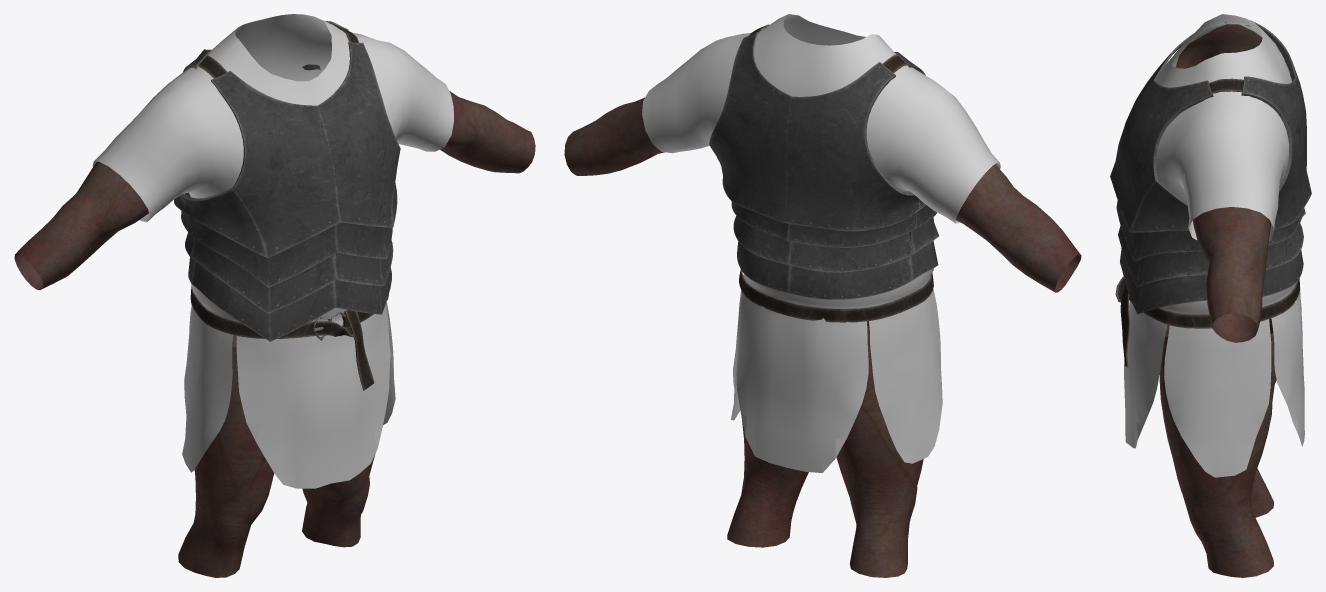
The model's file is sk_uruk_hai_plate_heavy_b2.fbx.
The picture shows the model from 3 angles, left to right: view 1: azimuth 30°, elevation 25°; view 2: azimuth 150°, elevation 25°; view 3: azimuth 270°, elevation 25°; orthographic projection. The views are drawn at different scales.
Visible parts, largest first — view 1: sk_uruk_hai_plate_heavy_b2.2, sk_uruk_hai_plate_heavy_b2.1, sk_uruk_hai_plate_heavy_b2.body.0, sk_uruk_hai_plate_heavy_b2.body.1, sk_uruk_hai_plate_heavy_b2.0; view 2: sk_uruk_hai_plate_heavy_b2.2, sk_uruk_hai_plate_heavy_b2.1, sk_uruk_hai_plate_heavy_b2.body.0, sk_uruk_hai_plate_heavy_b2.body.1, sk_uruk_hai_plate_heavy_b2.0; view 3: sk_uruk_hai_plate_heavy_b2.2, sk_uruk_hai_plate_heavy_b2.1, sk_uruk_hai_plate_heavy_b2.body.0, sk_uruk_hai_plate_heavy_b2.body.1, sk_uruk_hai_plate_heavy_b2.0.
Boxes of the visible parts, x1=… form: sk_uruk_hai_plate_heavy_b2.2: x1=92, y1=14, x2=453, y2=488; sk_uruk_hai_plate_heavy_b2.1: x1=174, y1=21, x2=400, y2=341; sk_uruk_hai_plate_heavy_b2.body.0: x1=178, y1=335, x2=375, y2=577; sk_uruk_hai_plate_heavy_b2.body.1: x1=14, y1=91, x2=535, y2=290; sk_uruk_hai_plate_heavy_b2.0: x1=190, y1=24, x2=388, y2=390; sk_uruk_hai_plate_heavy_b2.2: x1=642, y1=14, x2=1000, y2=472; sk_uruk_hai_plate_heavy_b2.1: x1=709, y1=32, x2=938, y2=299; sk_uruk_hai_plate_heavy_b2.body.0: x1=727, y1=321, x2=923, y2=577; sk_uruk_hai_plate_heavy_b2.body.1: x1=564, y1=97, x2=1081, y2=292; sk_uruk_hai_plate_heavy_b2.0: x1=739, y1=24, x2=933, y2=322; sk_uruk_hai_plate_heavy_b2.2: x1=1124, y1=14, x2=1304, y2=477; sk_uruk_hai_plate_heavy_b2.1: x1=1110, y1=20, x2=1311, y2=314; sk_uruk_hai_plate_heavy_b2.body.0: x1=1159, y1=318, x2=1276, y2=577; sk_uruk_hai_plate_heavy_b2.body.1: x1=1176, y1=24, x2=1271, y2=342; sk_uruk_hai_plate_heavy_b2.0: x1=1115, y1=22, x2=1299, y2=367.
Size of the model in its own units: 1.2 by 0.4308 by 1.19.
